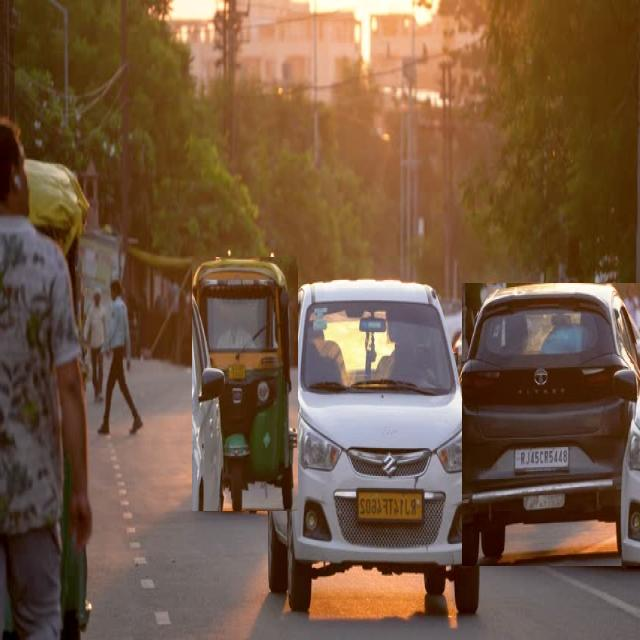autorickshaw: (192, 258, 298, 511)
car: (266, 280, 480, 613), (462, 284, 640, 566)
